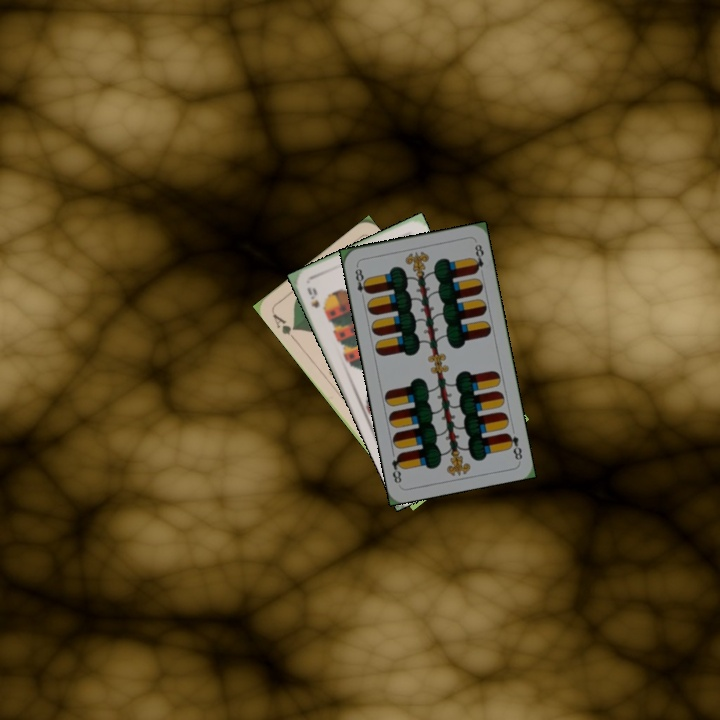E8: (351, 262, 372, 302), (502, 429, 525, 463)
GA: (268, 309, 299, 343)
S9: (303, 283, 322, 311)
